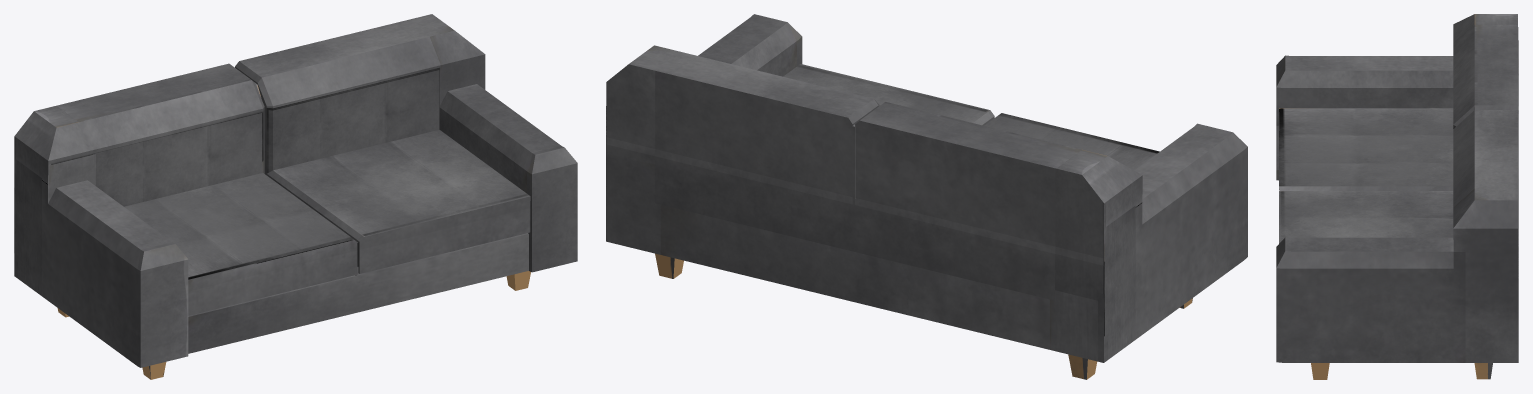
The model's file is kanapa1.glb.
The picture shows the model from 3 angles, left to right: view 1: azimuth 30°, elevation 25°; view 2: azimuth 150°, elevation 25°; view 3: azimuth 270°, elevation 25°; orthographic projection. The views are drawn at different scales.
Visible parts, largest first — view 1: Cube.079; view 2: Cube.079; view 3: Cube.079.
Boxes of the visible parts, x1,y1,x2,y2 form: Cube.079: (14, 14, 577, 379); Cube.079: (606, 14, 1247, 379); Cube.079: (1276, 14, 1518, 379).
Size of the model in its own units: 5.9 by 2.49 by 2.96.
1 material, 1 textured.
